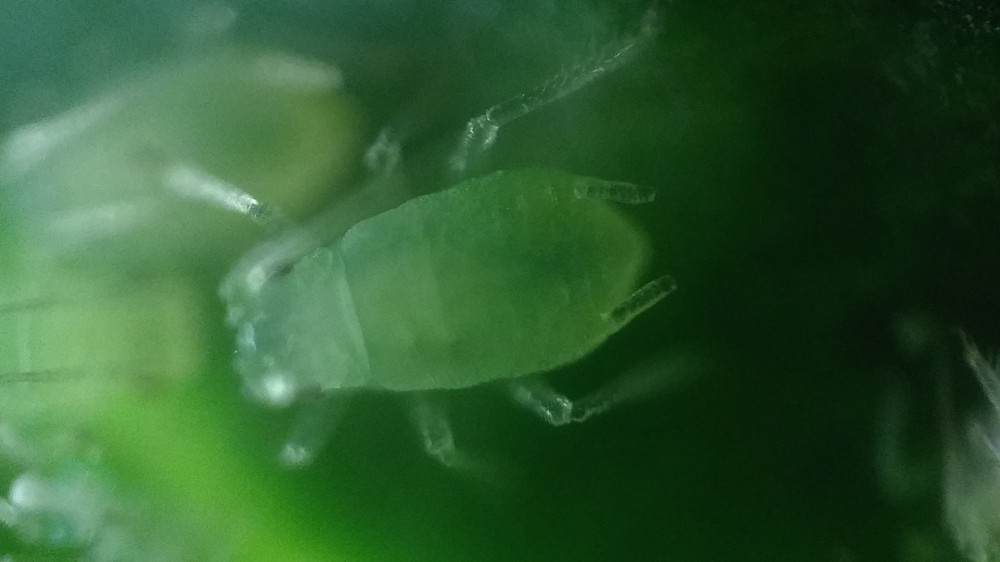Pulgon: (168, 42, 756, 504)
